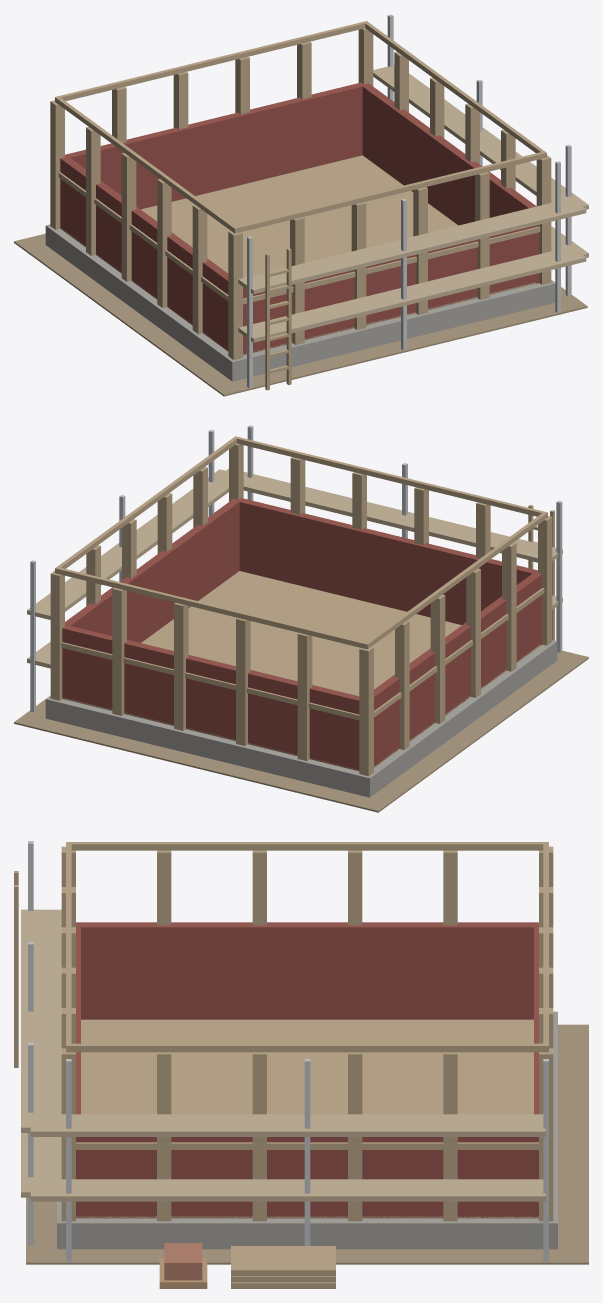
Rendered from barn_site_6.glb.
3 views of the same model, one above another, from view 1: azimuth 30°, elevation 25°; view 2: azimuth 150°, elevation 25°; view 3: azimuth 270°, elevation 25° (orthographic). The views are drawn at different scales.
Visible parts, largest first — view 1: body; view 2: body; view 3: body.
Part boxes in pixels (<box>): body: <box>14,14,588,396</box>; body: <box>14,425,588,812</box>; body: <box>14,841,588,1288</box>.
Size of the model in its own units: 2.6 by 0.9365 by 2.41.
